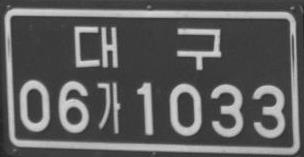0: (169, 83, 201, 137), (19, 79, 50, 133)
1: (132, 81, 164, 135)
3: (210, 83, 244, 138), (252, 84, 285, 138)
6: (58, 80, 89, 133)
가: (95, 81, 120, 133)
대구_D: (73, 25, 222, 71)
